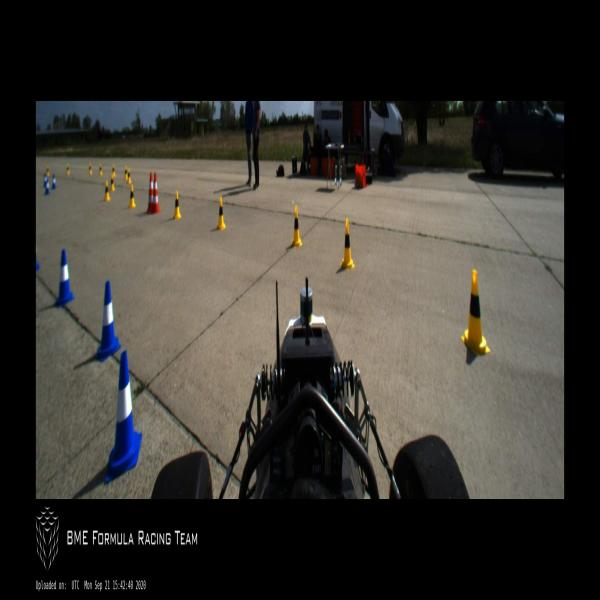blue_cone: (104, 351, 142, 483), (95, 280, 120, 362), (55, 250, 73, 307), (45, 178, 49, 196), (52, 173, 56, 189), (44, 173, 47, 188)
large_orange_cone: (151, 172, 160, 215), (147, 172, 154, 215)
yellow_cone: (461, 271, 488, 355), (340, 219, 354, 271), (291, 206, 301, 247), (217, 196, 225, 231), (173, 189, 180, 221), (129, 183, 135, 209), (104, 180, 110, 200), (110, 174, 115, 192), (127, 169, 131, 183), (124, 166, 128, 180), (88, 163, 92, 175), (112, 163, 115, 176), (99, 164, 102, 176), (46, 166, 49, 177), (67, 164, 69, 174)
